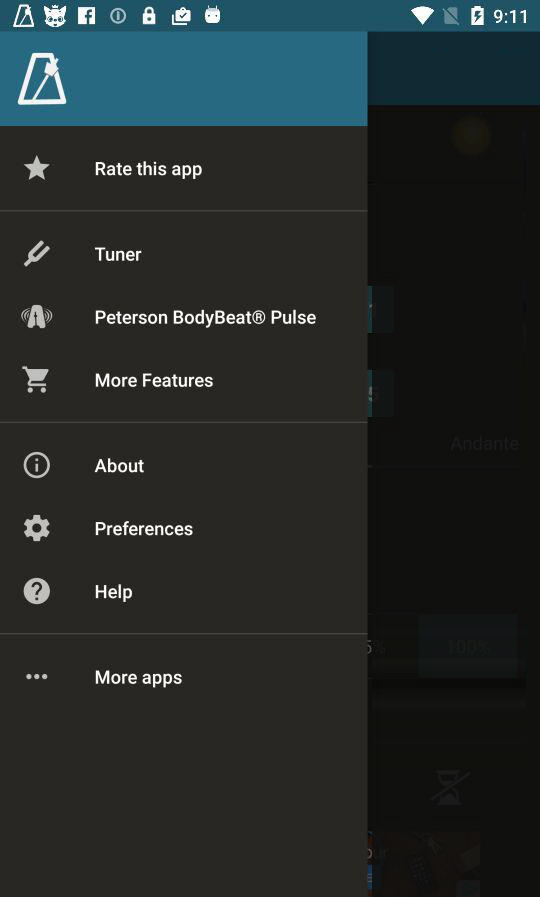Drawer: (1, 33, 367, 897)
Icon: (22, 365, 51, 395), (21, 305, 54, 330), (24, 577, 52, 605), (24, 240, 52, 268), (24, 514, 51, 542), (24, 452, 52, 479), (24, 155, 51, 182), (26, 673, 49, 680)
Image: (18, 53, 68, 107)
Text: (95, 309, 317, 329), (95, 160, 204, 181), (95, 372, 215, 389), (95, 669, 183, 689), (95, 520, 194, 537), (95, 458, 146, 475), (95, 246, 143, 263), (95, 583, 134, 603)
UpperTaskBar: (1, 1, 540, 33)
